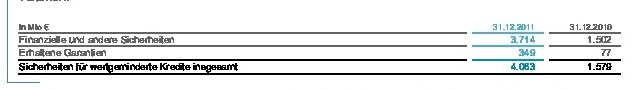table: (0, 0, 637, 89)
